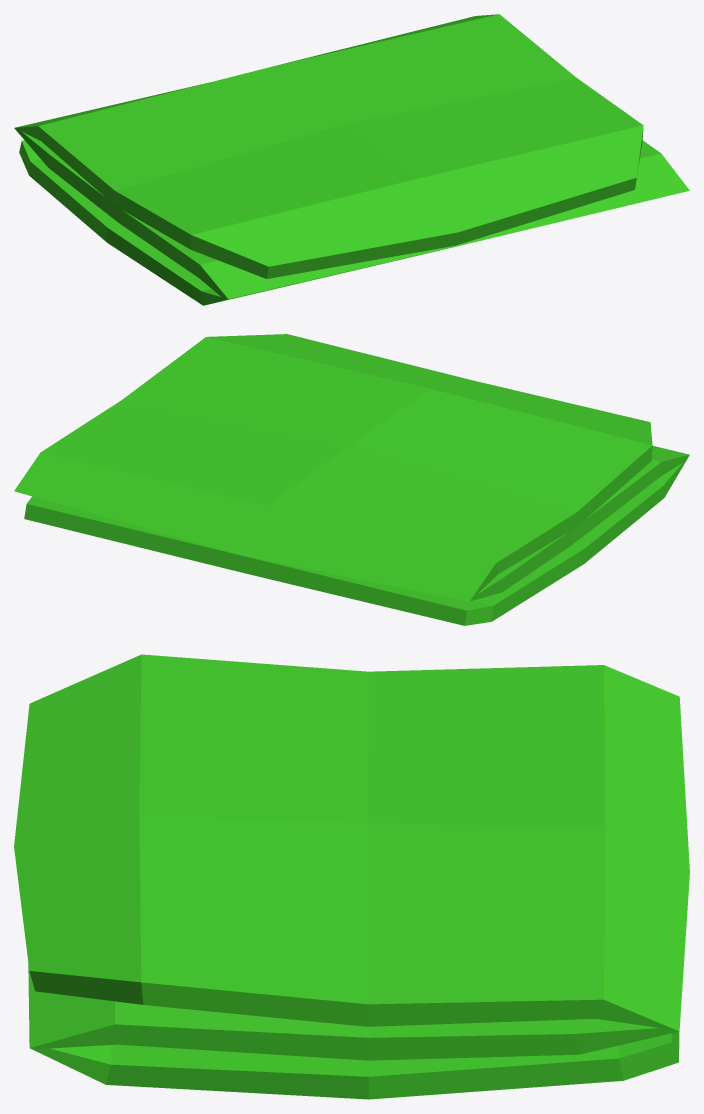
File: 2021foldedcloth.fbx
3 views of the same model, one above another, from view 1: azimuth 30°, elevation 25°; view 2: azimuth 150°, elevation 25°; view 3: azimuth 270°, elevation 25° (orthographic). The views are drawn at different scales.
Parts seen in each view (by area): view 1: Plane; view 2: Plane; view 3: Plane.
Boxes of the visible parts, <box> form: Plane: <box>14,14,689,305</box>; Plane: <box>14,334,689,625</box>; Plane: <box>14,654,689,1099</box>.
Size of the model in its own units: 79.61 by 10.19 by 63.65.
